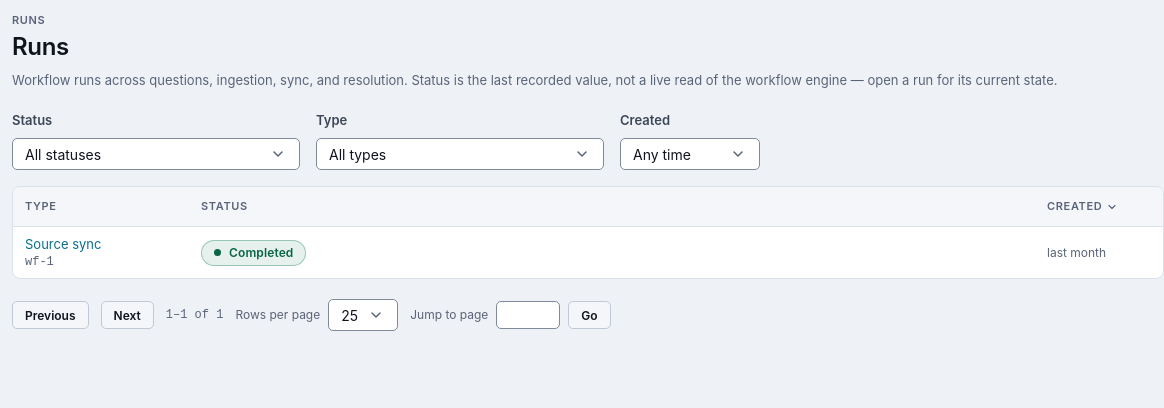
Test: RunsPage › applies the Last 7 days preset as range=7d, requesting whole local days, and Clear resets it
The image size is (1164, 408).
Expected: the link "Source sync" is shown, left=25, top=236, right=102, bottom=252
Select "Last 7 days" in the dropdown labelled "Created" at (690, 154), box left=620, top=138, right=760, bottom=170
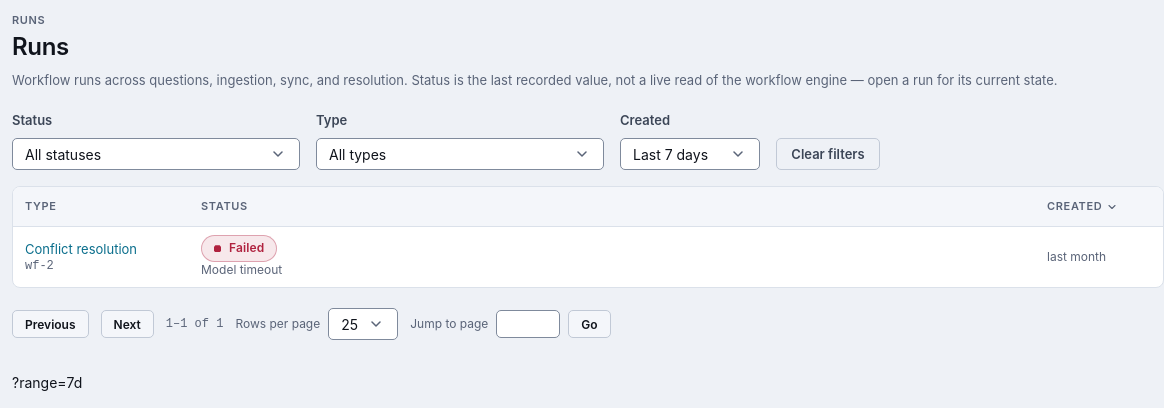
Now the link "Conflict resolution" is shown, box left=25, top=241, right=137, bottom=257
Now the text named "current search" reads "?range=7d", box left=12, top=374, right=82, bottom=391
Click the button "Clear filters" at (828, 154), box left=776, top=138, right=880, bottom=170
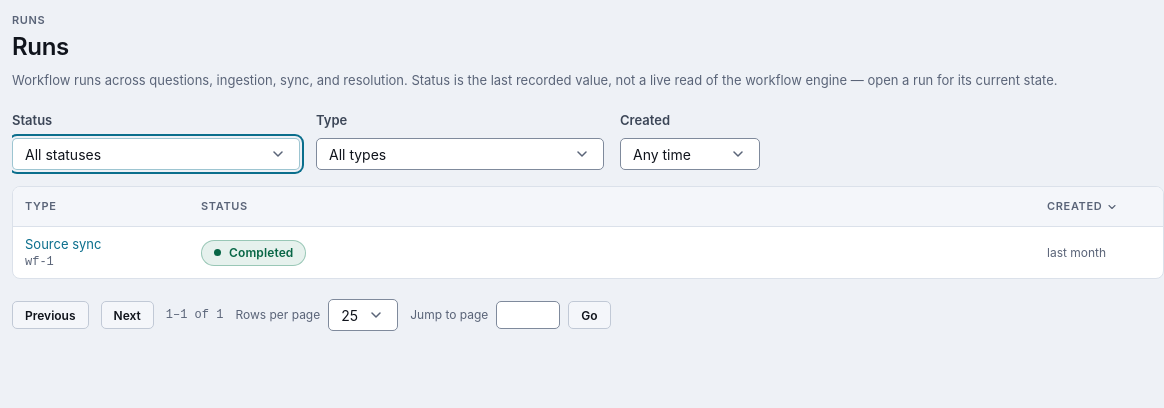
Now the link "Source sync" is shown, box left=25, top=236, right=102, bottom=252
